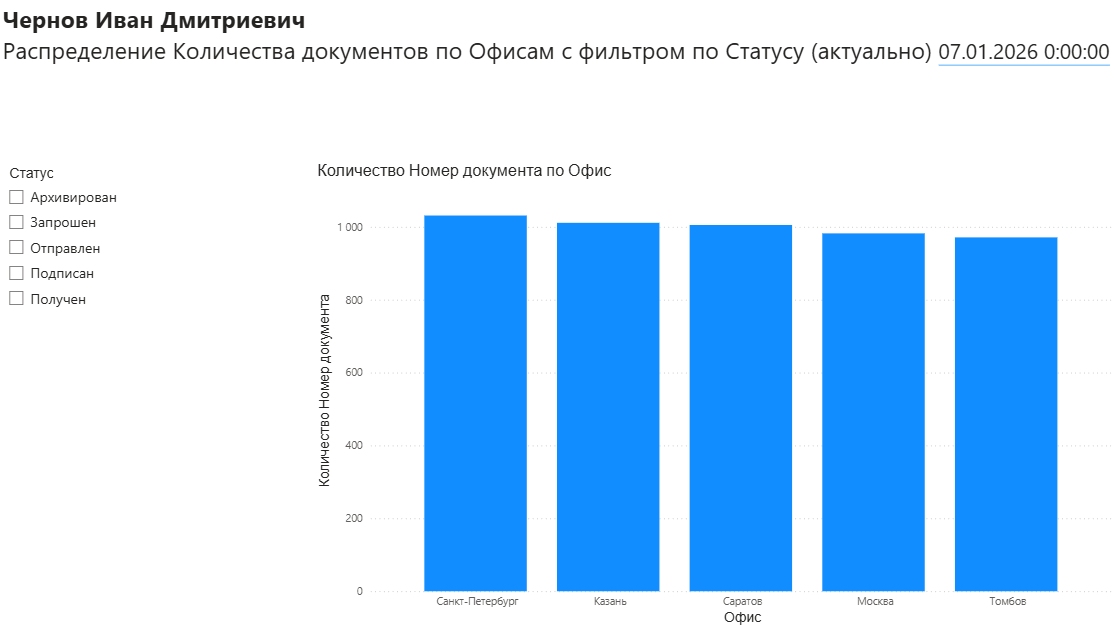

The page's visual inventory and layout, read from the dashboard file:
{"tool":"powerbi","page":{"name":"Диаграмма 1","canvas":[1280,720],"ordinal":0},"visuals":[{"type":"columnChart","fields":{"Y":["CountNonNull(Sheet1.Номер документа)"],"Category":["Sheet1.Офис"]},"box":[359.5,185.2,920.8,535.2],"z":0},{"type":"textbox","box":[0,0,1280.3,185.2],"z":1},{"type":"slicer","fields":{"Values":["Sheet1.Статус"]},"box":[0,185,360,535],"z":2}]}

Visuals, with their boxes in screenshot pixels (x1, y1, x2, y2), scaled from the page's 1280x720 canvas onto the 1115x625 screenshot:
columnChart - CountNonNull(Sheet1.Номер документа) x Sheet1.Офис: [left=313, top=161, right=1114, bottom=624]
textbox: [left=0, top=0, right=1114, bottom=161]
slicer - Sheet1.Статус: [left=0, top=161, right=314, bottom=624]
